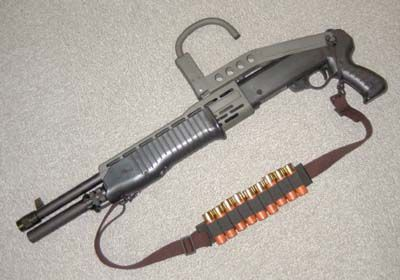weapon: (15, 18, 389, 245)
